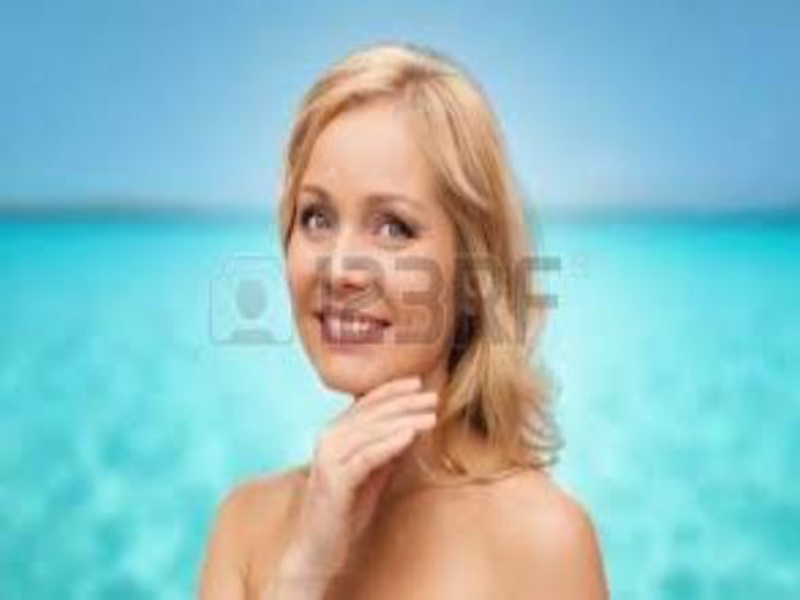TsisyArotava: (275, 51, 484, 422)
